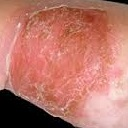Impetigo: (7, 5, 112, 104)
